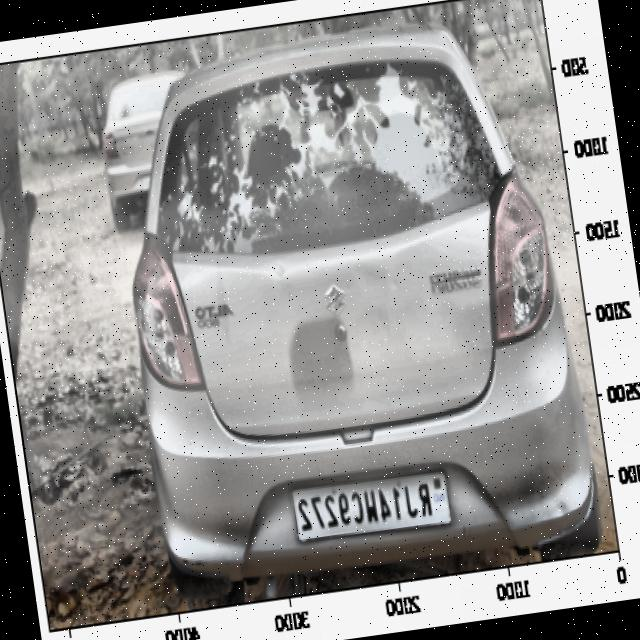license_plate: (291, 472, 442, 542)
